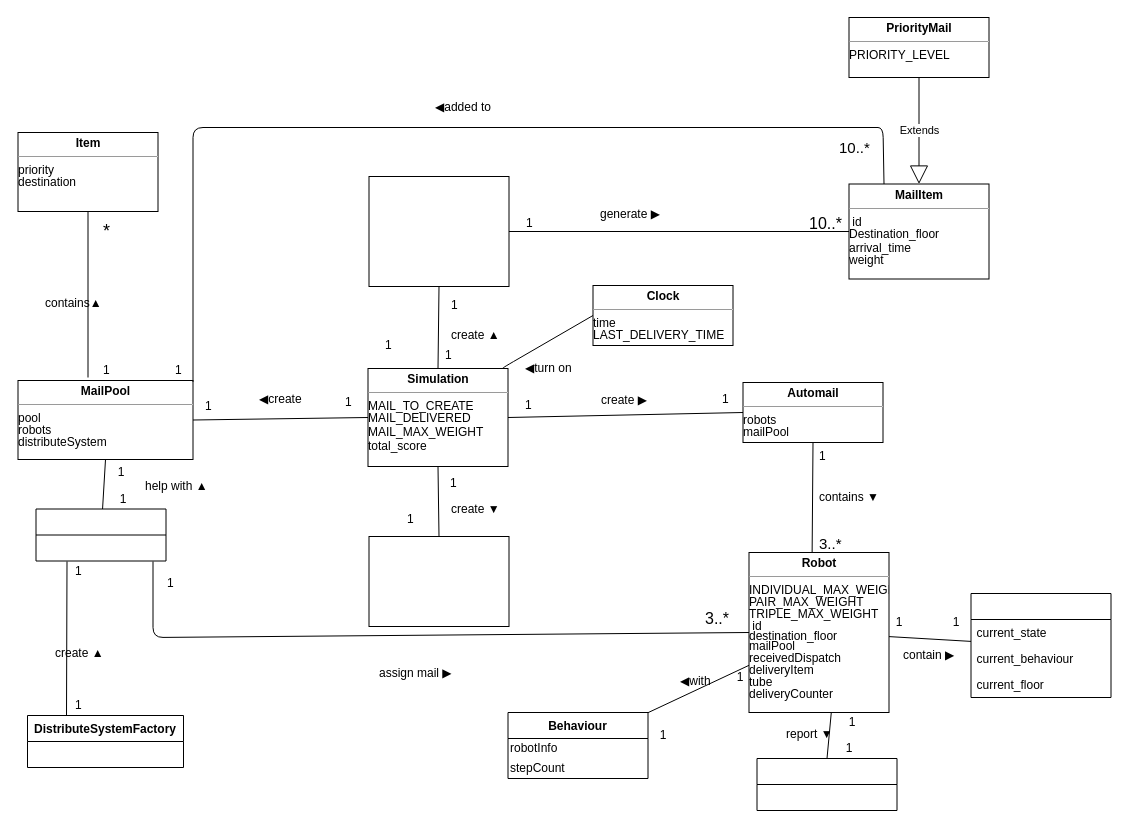
The diagram is 1128 pixels wide and 828 high, and some of its shapes have lost their labels. Here are the shapes that lost their labels. From the top down, the box of each, then its label:
(368, 176, 509, 286): MailGenerator MAIL_TO_CREATE MAIL_MAX_WEIGHT mail_created complete mailPool
(35, 508, 166, 561): DistributeSystem
(368, 536, 509, 626): Building FLOORS LOWEST_FLOOR MAILROOM_LOCATION
(970, 592, 1111, 698): Info
(756, 758, 897, 810): Delivery
